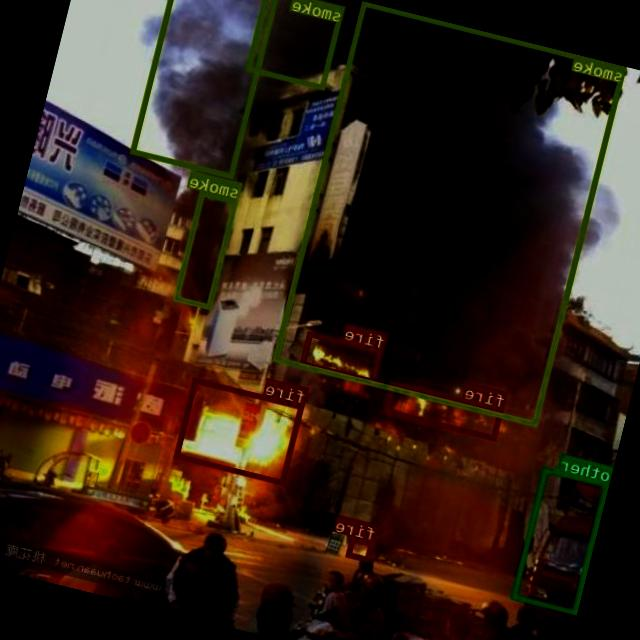fire: (175, 376, 306, 484), (384, 380, 504, 439), (302, 330, 384, 383), (346, 536, 374, 560)
smoke: (274, 1, 628, 425), (130, 0, 282, 178), (246, 0, 345, 89), (173, 190, 240, 309)
